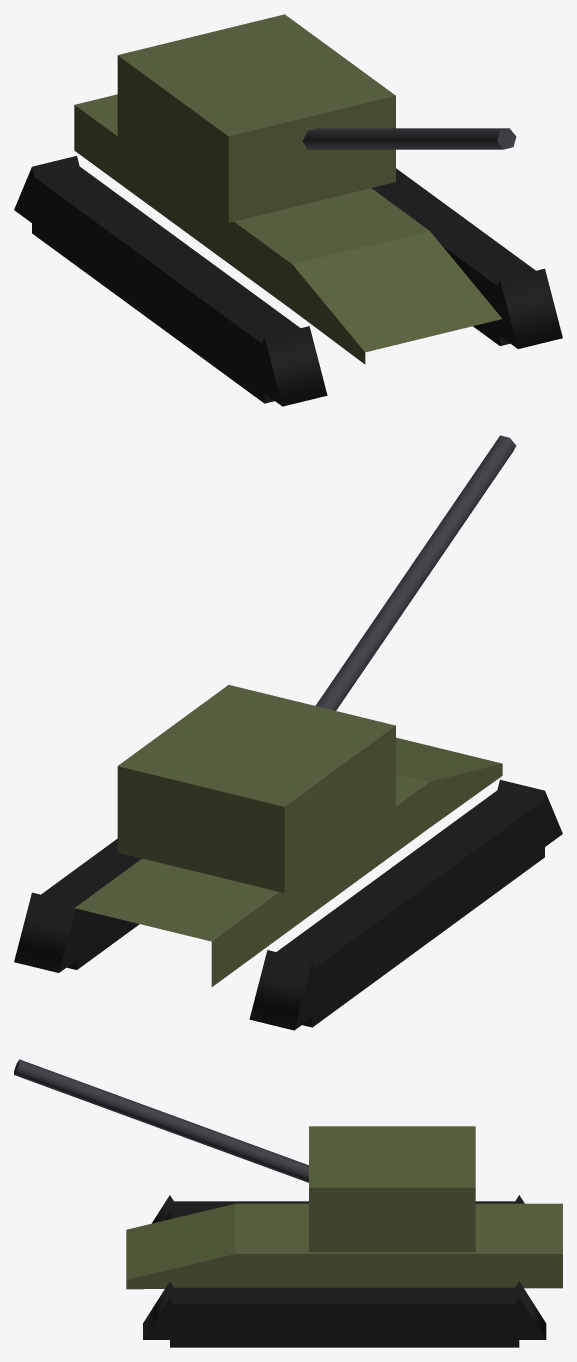
Rendered from veh_ground_sp_artillery_a08_lod2.glb.
The picture shows the model from 3 angles, top to bottom: view 1: azimuth 30°, elevation 25°; view 2: azimuth 150°, elevation 25°; view 3: azimuth 270°, elevation 25°; orthographic projection. The views are drawn at different scales.
Visible parts, largest first — view 1: turret, body, track_r, track_l; view 2: turret, track_r, body, track_l; view 3: body, turret, track_l, track_r.
Boxes of the visible parts, left/top/right/bottom form: turret: left=117, top=14, right=516, bottom=222; body: left=74, top=94, right=502, bottom=364; track_r: left=14, top=156, right=327, bottom=406; track_l: left=371, top=168, right=562, bottom=348; turret: left=117, top=435, right=516, bottom=893; track_r: left=249, top=779, right=562, bottom=1030; body: left=75, top=737, right=502, bottom=986; track_l: left=14, top=838, right=141, bottom=972; body: left=126, top=1203, right=562, bottom=1289; turret: left=14, top=1059, right=475, bottom=1252; track_l: left=143, top=1281, right=546, bottom=1347; track_r: left=152, top=1195, right=524, bottom=1223.
Bounding box in the file's own units: 4.08 × 4.35 × 9.21.
